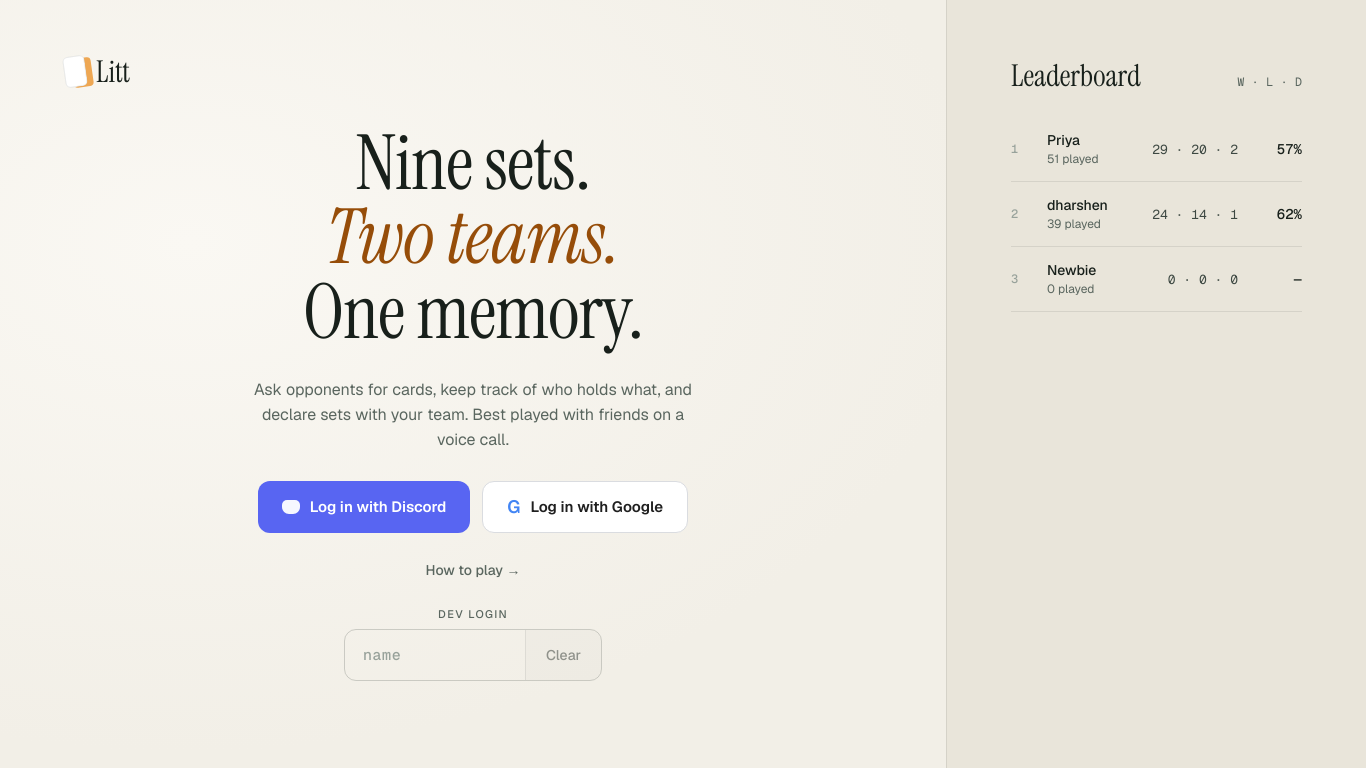
Test: Home: dev login (dev builds only) › explains when the server rejects a dev login
The width and height of the screenshot is (1366, 768).
Expected: the link "Log in with Discord" is shown, [258,481,470,533]
Type "alice" into the field named "Dev login name". click: (435, 655)
box: [345,630,525,680]
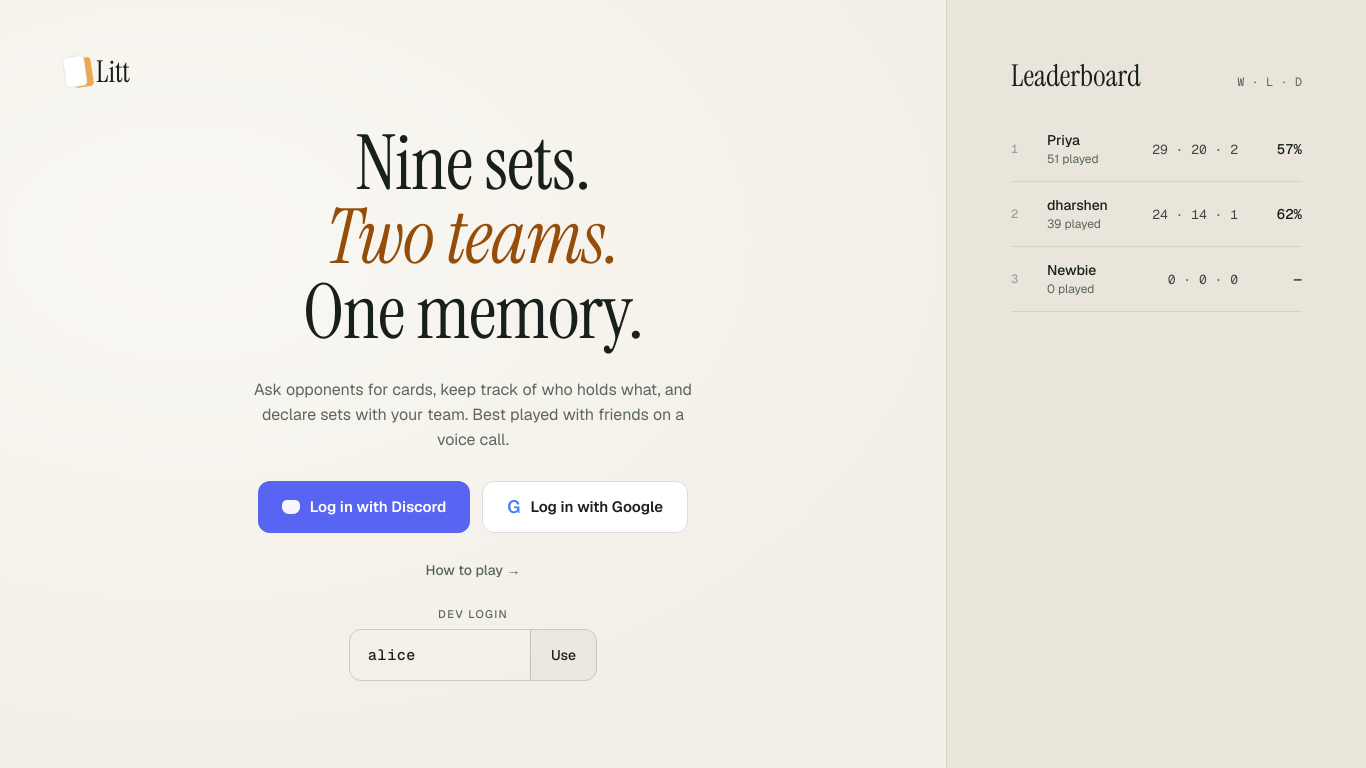
Click the button "Use". click: click(563, 655)
box: [530,630,596,680]
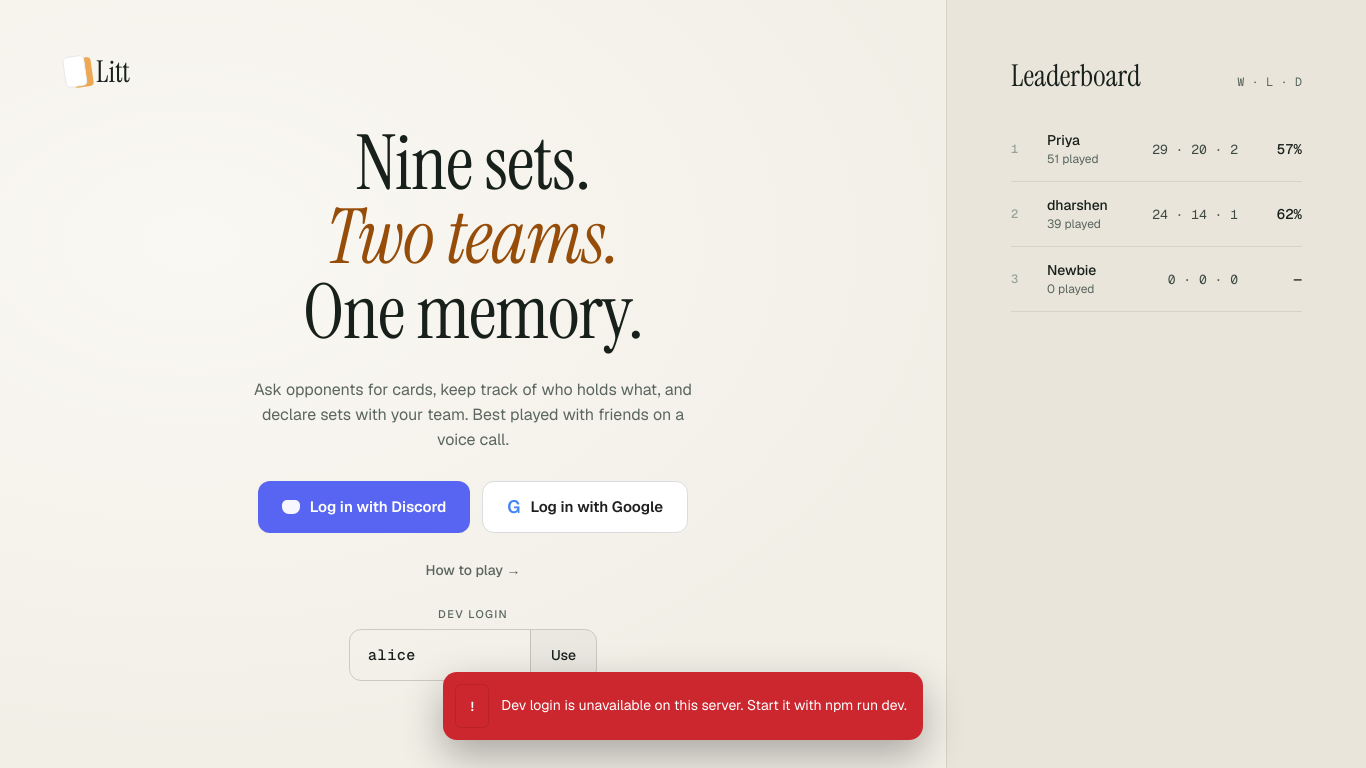
Result: the text "Dev login is unavailable on this server. Start it with npm run dev." is shown at [501,696,907,716]
